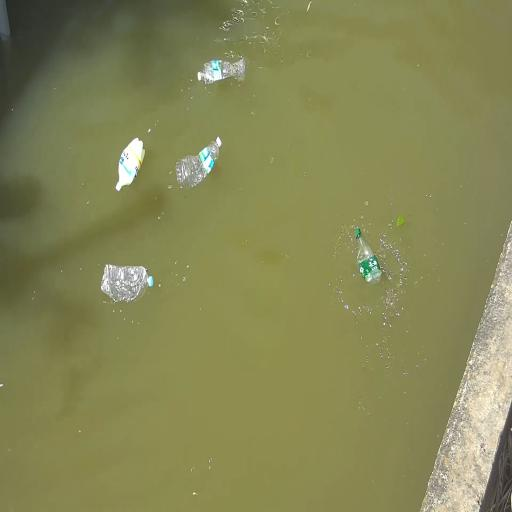plastic: (176, 138, 221, 188), (101, 265, 153, 302), (197, 55, 247, 89), (355, 227, 383, 285), (116, 138, 145, 191)
